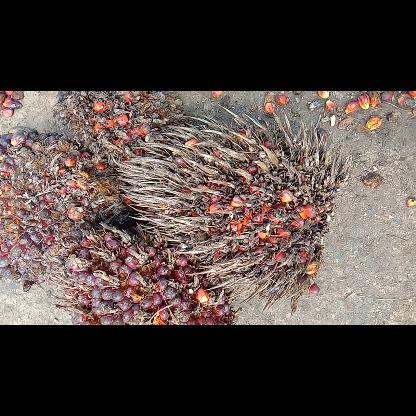TBS masak: (0, 128, 130, 290), (51, 224, 237, 324)
Terlalu masak: (116, 104, 350, 312), (54, 91, 182, 163)
